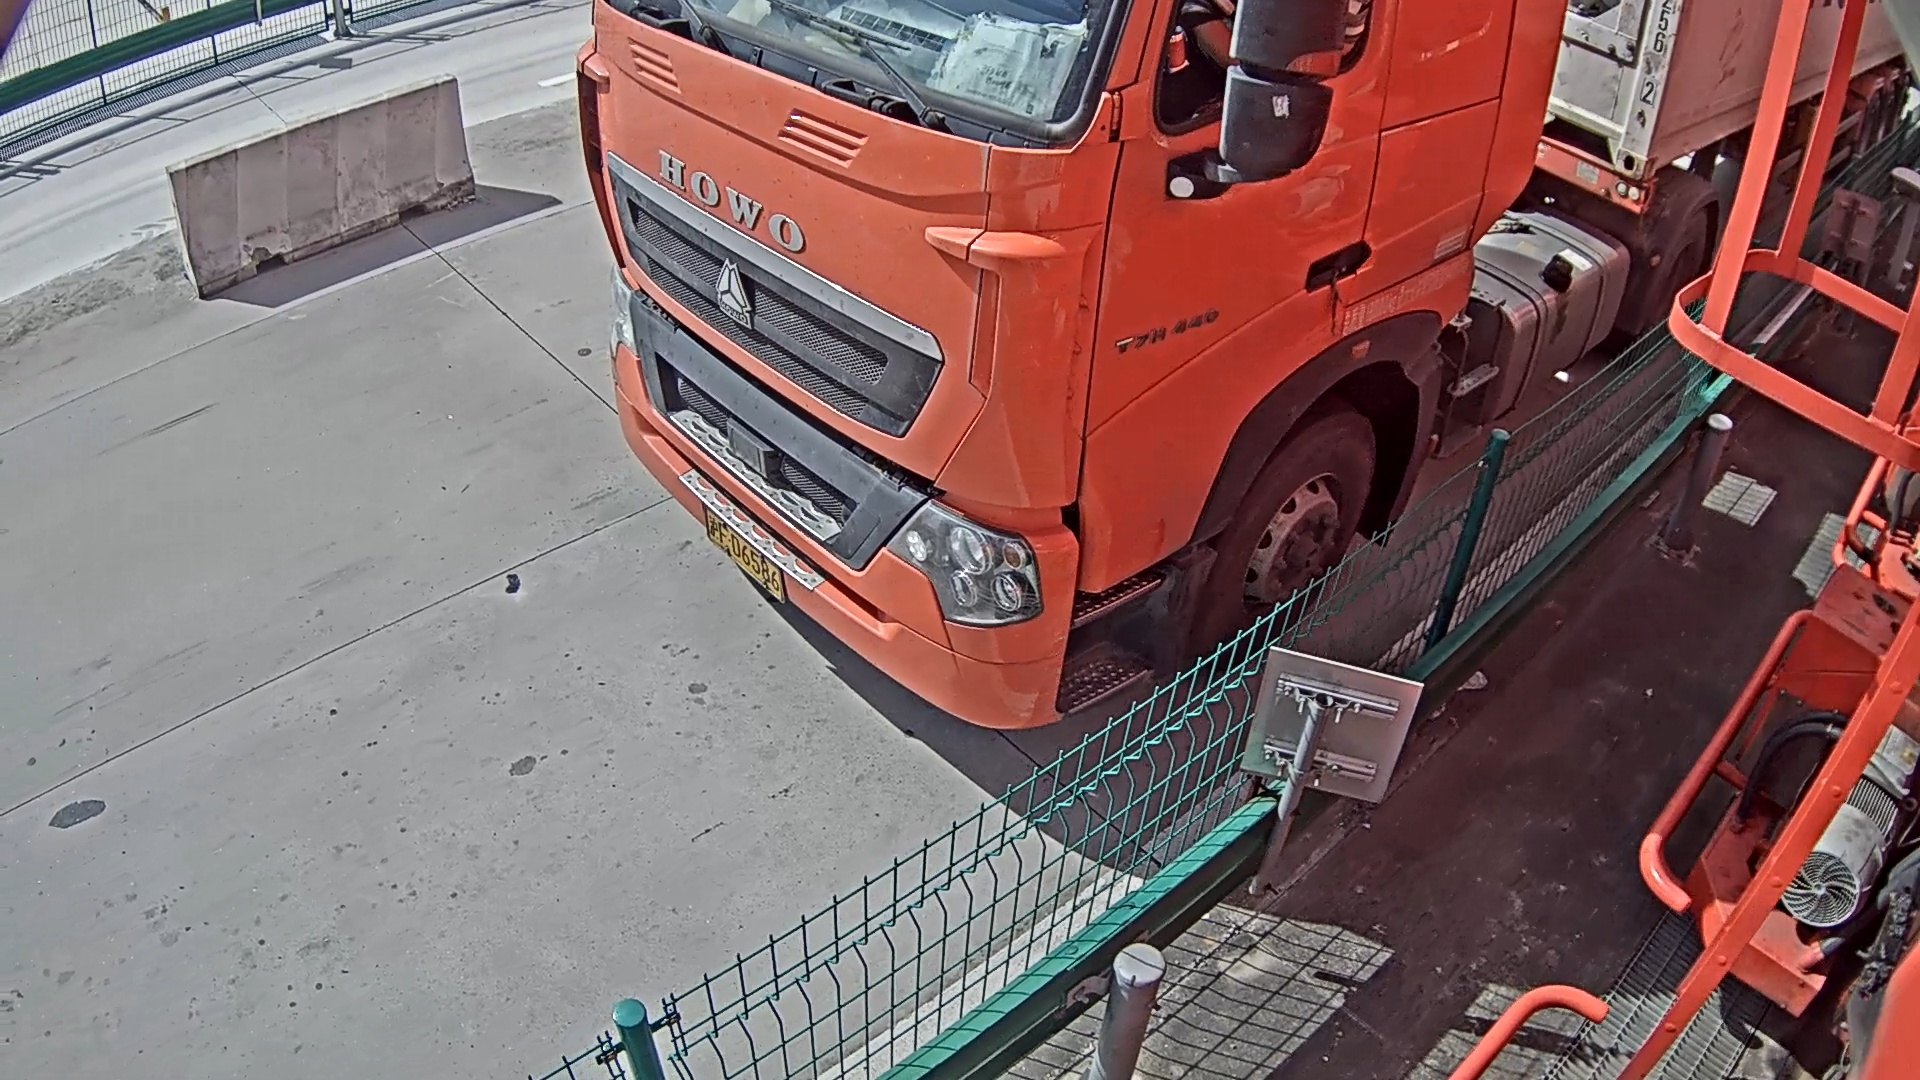head: (581, 1, 1575, 727)
plate: (703, 504, 784, 599)
